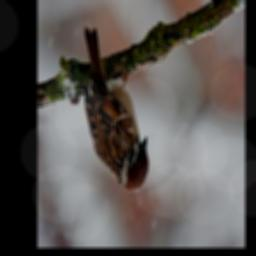Sparrow: (82, 27, 150, 194)
